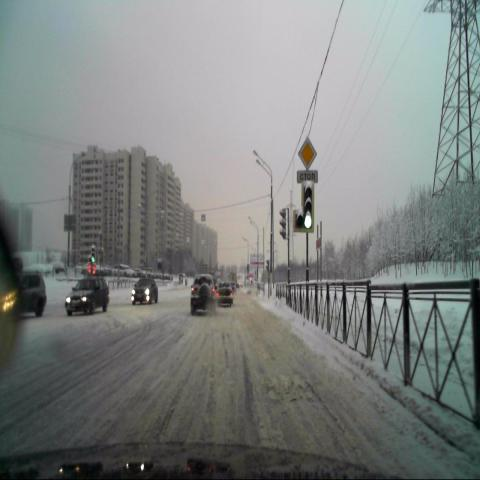2_1: (297, 135, 317, 169)
6_16: (296, 169, 318, 183)
